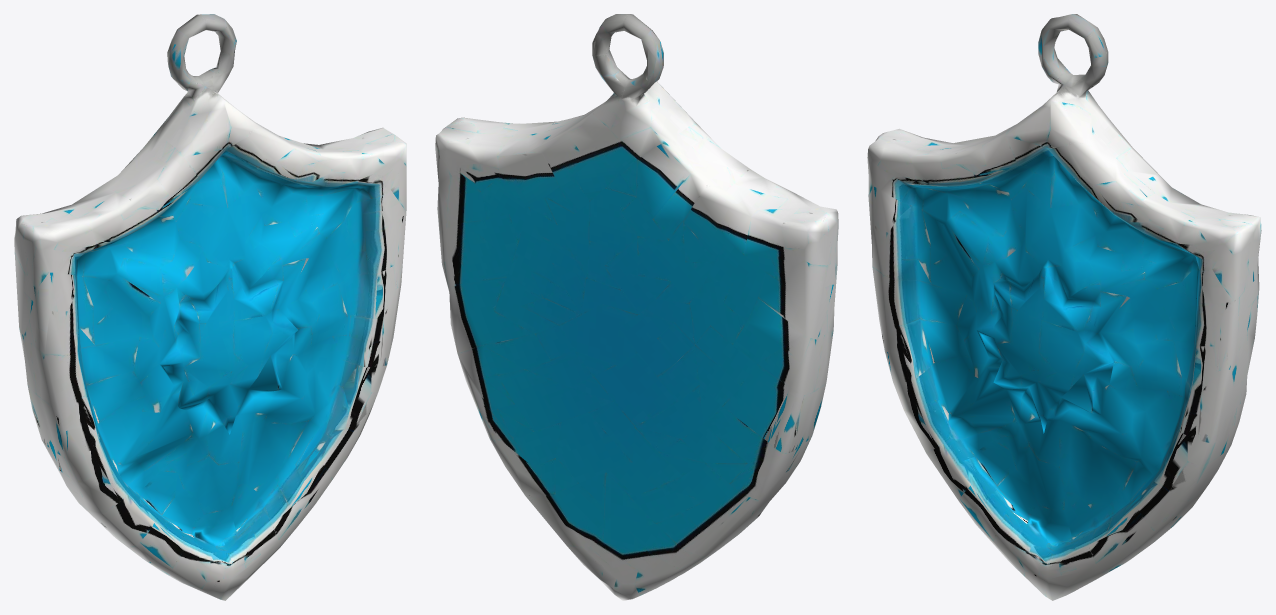
The model's file is shield-charm.glb.
3 renders of one model, left to right at view 1: azimuth 30°, elevation 25°; view 2: azimuth 150°, elevation 25°; view 3: azimuth 330°, elevation 25°, orthographic. The views are drawn at different scales.
Bounding box in the file's own units: 1.31 × 1.91 × 0.2354.
1 material, 1 textured.
